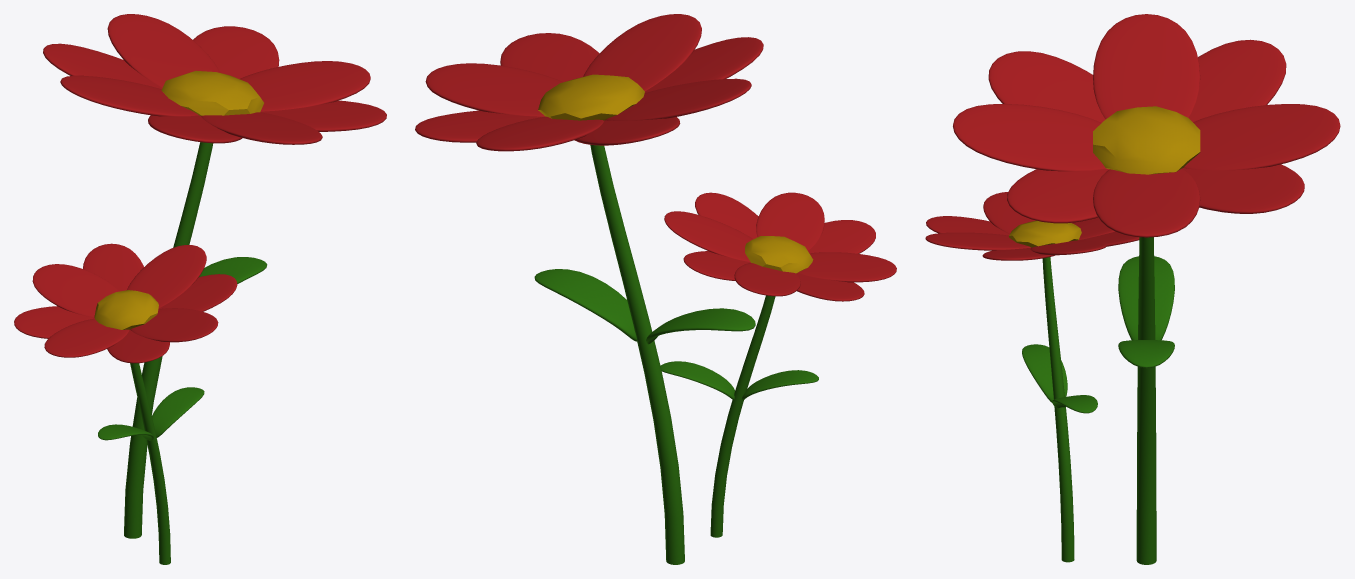
File: DesertFeverfew.fbx
3 views of the same model, side by side, from view 1: azimuth 30°, elevation 25°; view 2: azimuth 150°, elevation 25°; view 3: azimuth 270°, elevation 25° (orthographic). The views are drawn at different scales.
Parts seen in each view (by area): view 1: Desert_Feverfew; view 2: Desert_Feverfew; view 3: Desert_Feverfew.
Boxes of the visible parts, x1,y1,x2,y2 form: Desert_Feverfew: [14, 14, 386, 564]; Desert_Feverfew: [415, 14, 896, 564]; Desert_Feverfew: [925, 14, 1340, 564].
Size of the model in its own units: 828 by 970 by 713.
1 material, 1 textured.
